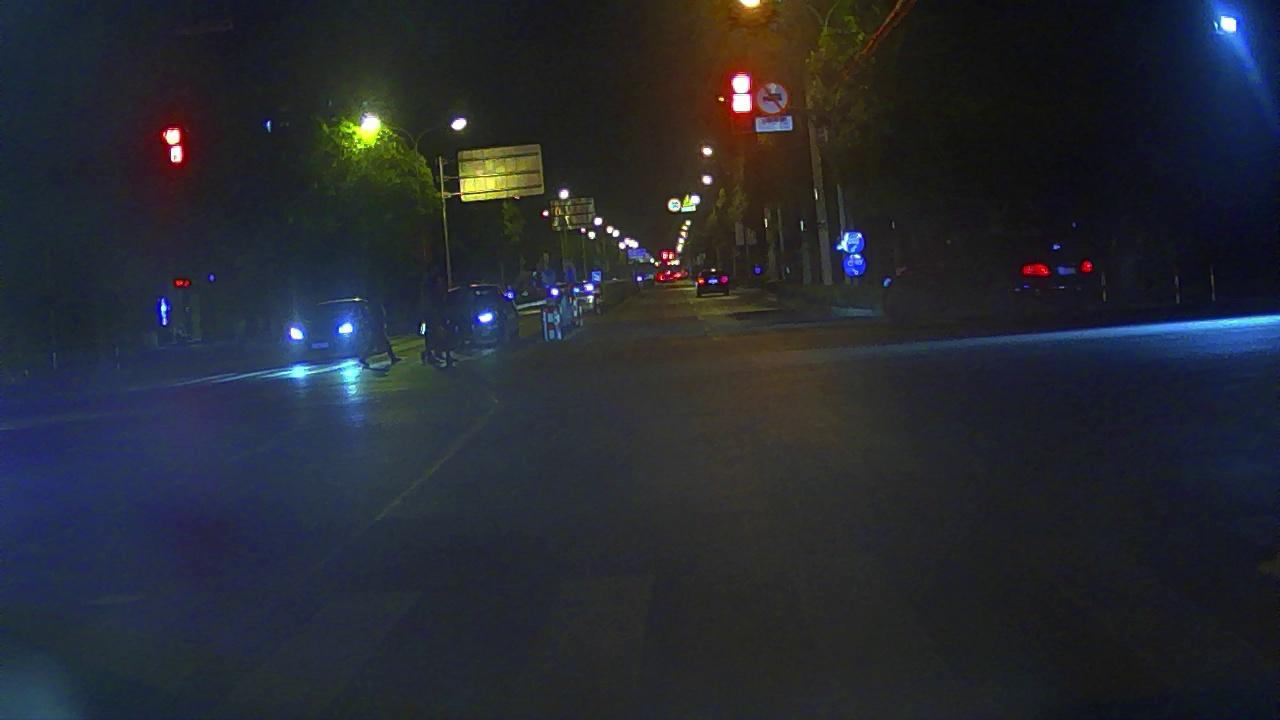traffic_light: (153, 122, 193, 172), (726, 66, 757, 120)
